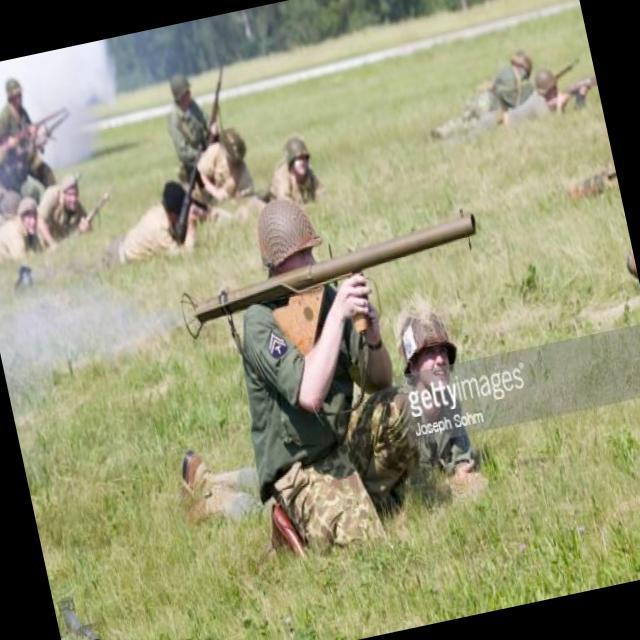rocket: (172, 205, 490, 345)
